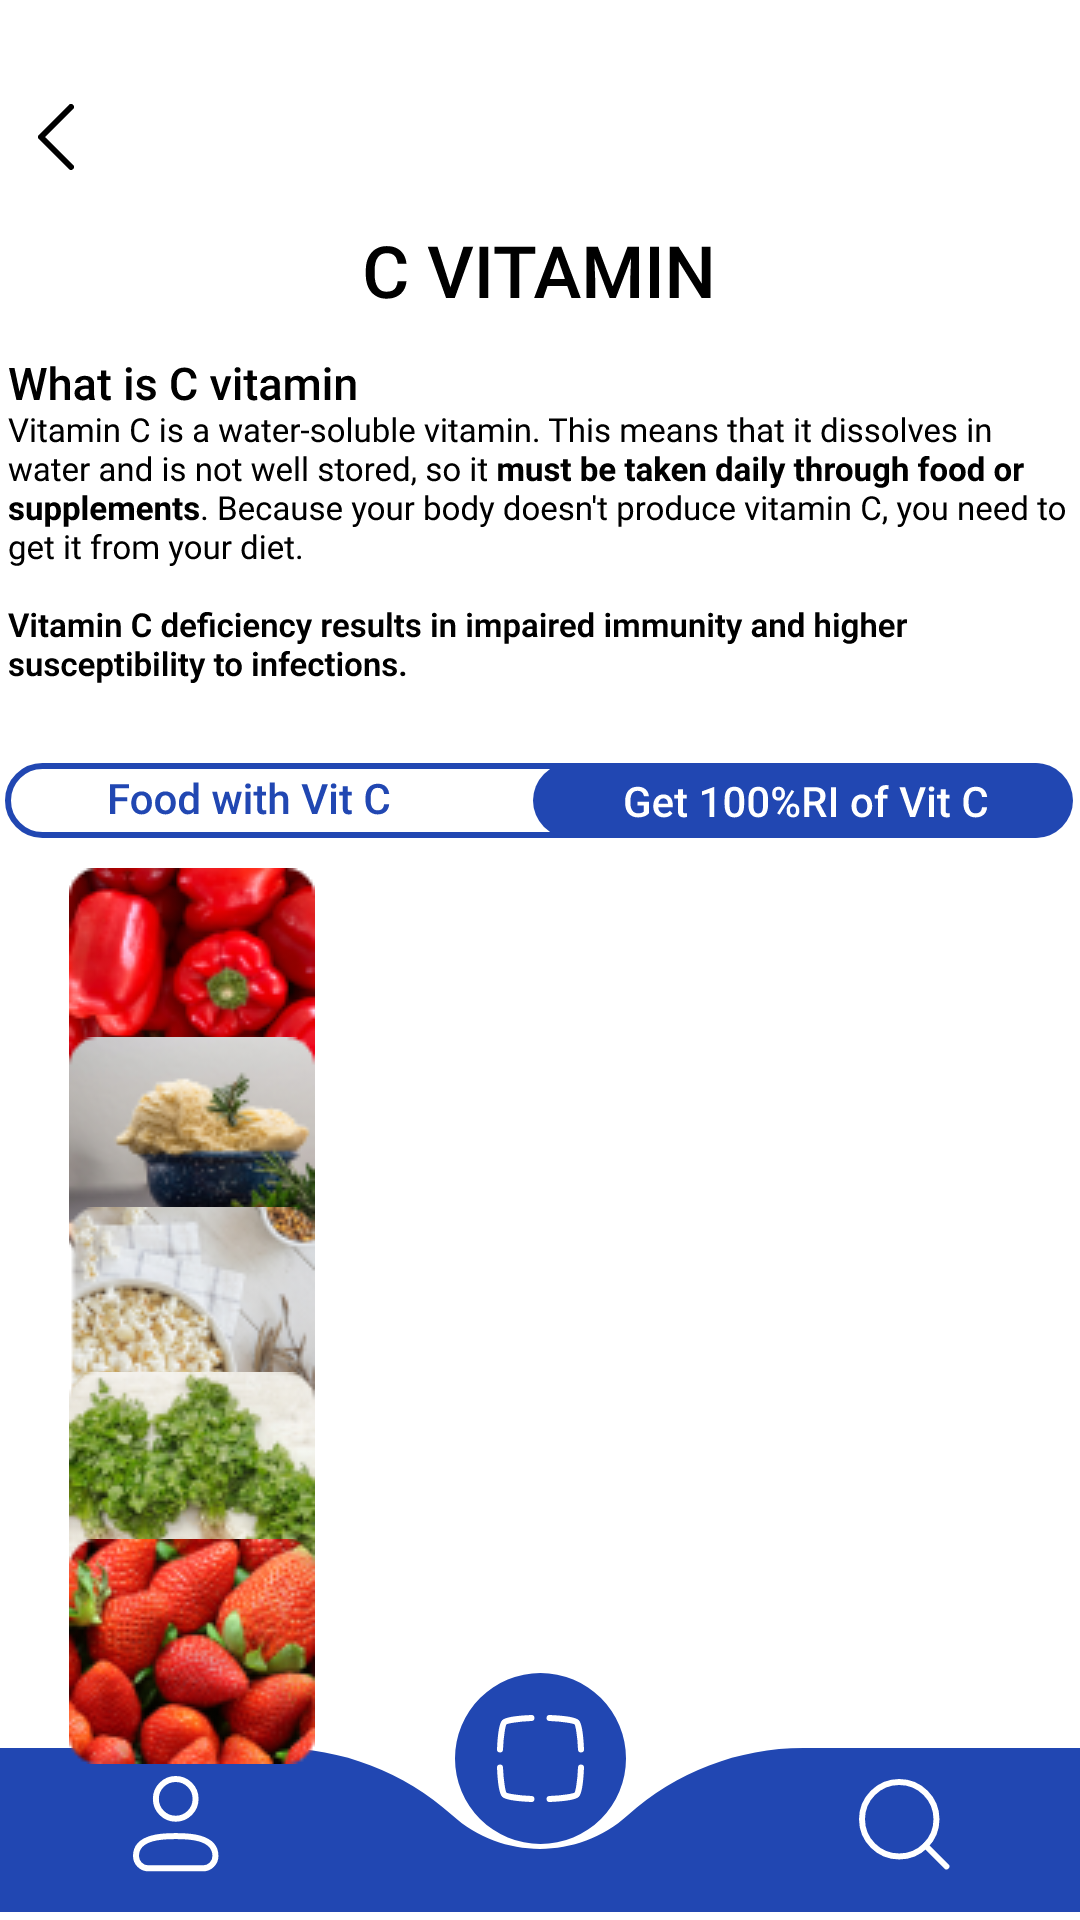

Icon click points for this 1080 x 1920 phone screenshot, format (x,y):
backarrow: (56,137)
foodsristrawberry: (192,1651)
scanbutton: (540,1770)
searchicon: (904,1824)
usericon: (176,1824)
